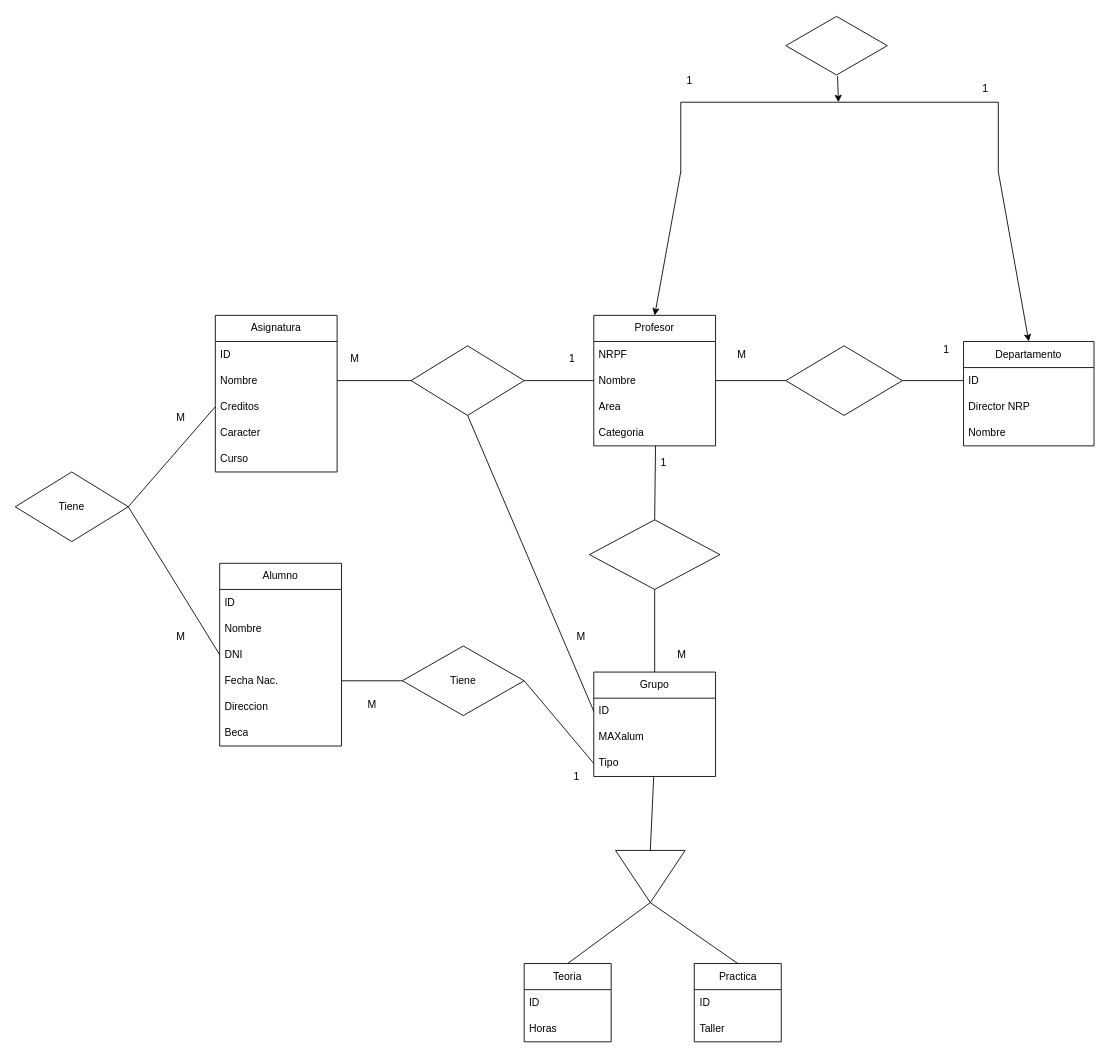
The diagram is 1109 pixels wide and 1057 high, and some of its shapes have lost their labels. Each missing label, with the centre of its shape:
Da: the point at 467,380
Dirige: the point at 836,45
es un: the point at 650,876
Imparte: the point at 654,554
Pertenece: the point at 843,380
